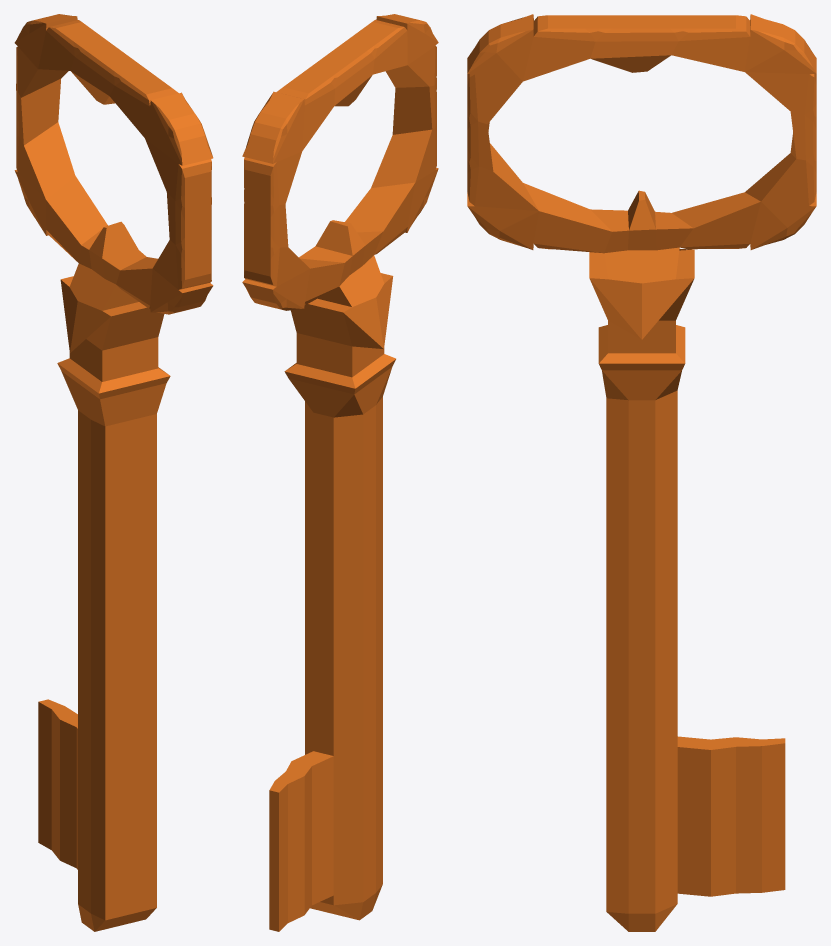
The model's file is key.fbx.
The picture shows the model from 3 angles, left to right: view 1: azimuth 30°, elevation 25°; view 2: azimuth 150°, elevation 25°; view 3: azimuth 270°, elevation 25°; orthographic projection. The views are drawn at different scales.
Parts seen in each view (by area): view 1: Key; view 2: Key; view 3: Key.
Part boxes in pixels (x1,y1,x2,y2): Key: (14,14,213,931); Key: (242,14,438,931); Key: (467,14,816,931).
Size of the model in its own units: 59.77 by 559 by 197.
